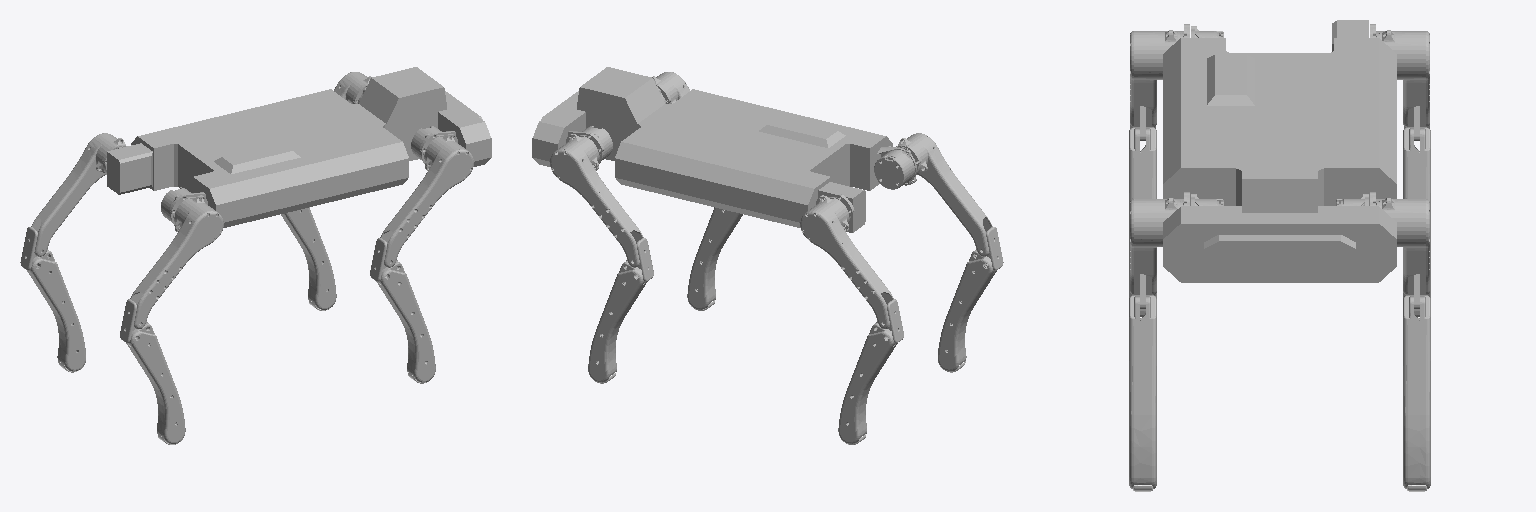
URDF robot description (FullAssemblyPyBullet):
<?xml version="1.0" encoding="utf-8"?>
<!-- This URDF was automatically created by SolidWorks to URDF Exporter! Originally created by [author] ([email redacted]) 
     Commit Version: 1.6.0-4-g7f85cfe  Build Version: 1.6.7995.38578
     For more information, please see http://wiki.ros.org/sw_urdf_exporter -->
<robot
  name="FullAssemblyPyBullet">
  <link
    name="MainBody">
    <inertial>
      <origin
        xyz="0.0715878232956685 -0.000237379436129198 0.0384948762748406"
        rpy="0 0 0" />
      <mass
        value="1.84238098815425" />
      <inertia
        ixx="0.00433419520410736"
        ixy="-3.43872307352775E-07"
        ixz="2.81226041199482E-06"
        iyy="0.00397090376565795"
        iyz="1.19851821233543E-08"
        izz="0.00734145267452479" />
    </inertial>
    <visual>
      <origin
        xyz="0 0 0"
        rpy="0 0 0" />
      <geometry>
        <mesh
          filename="package://FullAssemblyPyBullet/meshes/MainBody.STL" />
      </geometry>
      <material
        name="">
        <color
          rgba="0.752941176470588 0.752941176470588 0.752941176470588 1" />
      </material>
    </visual>
    <collision>
      <origin
        xyz="0 0 0"
        rpy="0 0 0" />
      <geometry>
        <mesh
          filename="package://FullAssemblyPyBullet/meshes/MainBody.STL" />
      </geometry>
    </collision>
  </link>
  <link
    name="FL_HipLink">
    <inertial>
      <origin
        xyz="-0.046482 -0.013937 -0.00013148"
        rpy="0 0 0" />
      <mass
        value="0.092628" />
      <inertia
        ixx="2.6348E-05"
        ixy="1.0623E-06"
        ixz="2.1924E-09"
        iyy="4.2592E-05"
        iyz="-1.0475E-07"
        izz="2.9112E-05" />
    </inertial>
    <visual>
      <origin
        xyz="0 0 0"
        rpy="0 0 0" />
      <geometry>
        <mesh
          filename="package://FullAssemblyPyBullet/meshes/FL_HipLink.STL" />
      </geometry>
      <material
        name="">
        <color
          rgba="0.75294 0.75294 0.75294 1" />
      </material>
    </visual>
    <collision>
      <origin
        xyz="0 0 0"
        rpy="0 0 0" />
      <geometry>
        <mesh
          filename="package://FullAssemblyPyBullet/meshes/FL_HipLink.STL" />
      </geometry>
    </collision>
  </link>
  <joint
    name="FL_HipJoint"
    type="revolute">
    <origin
      xyz="0.2878 0.1 0.037867"
      rpy="0 0 0" />
    <parent
      link="MainBody" />
    <child
      link="FL_HipLink" />
    <axis
      xyz="1 0 0" />
    <limit
      lower="-0.175"
      upper="1.571"
      effort="0"
      velocity="0" />
  </joint>
  <link
    name="FL_FemurLink">
    <inertial>
      <origin
        xyz="-0.0192209156804703 0.0445309182127519 -0.0180483752178875"
        rpy="0 0 0" />
      <mass
        value="0.162698622822929" />
      <inertia
        ixx="0.000127956505961249"
        ixy="-2.78799082360888E-06"
        ixz="-8.05949151113358E-05"
        iyy="0.000233954696541105"
        iyz="-2.77405486023301E-06"
        izz="0.000124359017081187" />
    </inertial>
    <visual>
      <origin
        xyz="0 0 0"
        rpy="0 0 0" />
      <geometry>
        <mesh
          filename="package://FullAssemblyPyBullet/meshes/FL_FemurLink.STL" />
      </geometry>
      <material
        name="">
        <color
          rgba="0.752941176470588 0.752941176470588 0.752941176470588 1" />
      </material>
    </visual>
    <collision>
      <origin
        xyz="0 0 0"
        rpy="0 0 0" />
      <geometry>
        <mesh
          filename="package://FullAssemblyPyBullet/meshes/FL_FemurLink.STL" />
      </geometry>
    </collision>
  </link>
  <joint
    name="FL_FemurJoint"
    type="revolute">
    <origin
      xyz="-0.054 -0.009 0"
      rpy="0 0 0" />
    <parent
      link="FL_HipLink" />
    <child
      link="FL_FemurLink" />
    <axis
      xyz="0 1 0" />
    <limit
      lower="-0.785"
      upper="0.785"
      effort="0"
      velocity="0" />
  </joint>
  <link
    name="FL_TibiaLink">
    <inertial>
      <origin
        xyz="0.0322017175929247 2.39643160091924E-05 -0.0962232443701754"
        rpy="0 0 0" />
      <mass
        value="0.109672208230102" />
      <inertia
        ixx="0.000411262084213936"
        ixy="-9.2367440160798E-07"
        ixz="0.000137528054915283"
        iyy="0.000471917665954904"
        iyz="2.15761541593598E-06"
        izz="6.64698615962587E-05" />
    </inertial>
    <visual>
      <origin
        xyz="0 0 0"
        rpy="0 0 0" />
      <geometry>
        <mesh
          filename="package://FullAssemblyPyBullet/meshes/FL_TibiaLink.STL" />
      </geometry>
      <material
        name="">
        <color
          rgba="0.752941176470588 0.752941176470588 0.752941176470588 1" />
      </material>
    </visual>
    <collision>
      <origin
        xyz="0 0 0"
        rpy="0 0 0" />
      <geometry>
        <mesh
          filename="package://FullAssemblyPyBullet/meshes/FL_TibiaLink.STL" />
      </geometry>
    </collision>
  </link>
  <joint
    name="FL_TibiaJoint"
    type="revolute">
    <origin
      xyz="-0.1283 0.0695 -0.1404"
      rpy="0 0 0" />
    <parent
      link="FL_FemurLink" />
    <child
      link="FL_TibiaLink" />
    <axis
      xyz="0 1 0" />
    <limit
      lower="-1.571"
      upper="0"
      effort="0"
      velocity="0" />
  </joint>
  <link
    name="FL_FootLink">
    <inertial>
      <origin
        xyz="0.000340694607176006 1.29750904465098E-10 0.00531238344111958"
        rpy="0 0 0" />
      <mass
        value="0.00261710083689234" />
      <inertia
        ixx="1.42176481764722E-07"
        ixy="5.41889134310939E-14"
        ixz="2.06504219972565E-08"
        iyy="3.94491238638296E-07"
        iyz="-1.26336438823713E-14"
        izz="4.62835009996335E-07" />
    </inertial>
    <visual>
      <origin
        xyz="0 0 0"
        rpy="0 0 0" />
      <geometry>
        <mesh
          filename="package://FullAssemblyPyBullet/meshes/FL_FootLink.STL" />
      </geometry>
      <material
        name="">
        <color
          rgba="1 1 1 1" />
      </material>
    </visual>
    <collision>
      <origin
        xyz="0 0 0"
        rpy="0 0 0" />
      <geometry>
        <mesh
          filename="package://FullAssemblyPyBullet/meshes/FL_FootLink.STL" />
      </geometry>
    </collision>
  </link>
  <joint
    name="FL_FootJoint"
    type="fixed">
    <origin
      xyz="0.063753 0 -0.2336"
      rpy="0 0 0" />
    <parent
      link="FL_TibiaLink" />
    <child
      link="FL_FootLink" />
    <axis
      xyz="0 0 0" />
  </joint>
  <link
    name="FR_HipLink">
    <inertial>
      <origin
        xyz="-0.046481 0.013937 -0.0001314"
        rpy="0 0 0" />
      <mass
        value="0.092628" />
      <inertia
        ixx="2.6348E-05"
        ixy="-1.0624E-06"
        ixz="2.0949E-09"
        iyy="4.2592E-05"
        iyz="1.0467E-07"
        izz="2.9112E-05" />
    </inertial>
    <visual>
      <origin
        xyz="0 0 0"
        rpy="0 0 0" />
      <geometry>
        <mesh
          filename="package://FullAssemblyPyBullet/meshes/FR_HipLink.STL" />
      </geometry>
      <material
        name="">
        <color
          rgba="0.75294 0.75294 0.75294 1" />
      </material>
    </visual>
    <collision>
      <origin
        xyz="0 0 0"
        rpy="0 0 0" />
      <geometry>
        <mesh
          filename="package://FullAssemblyPyBullet/meshes/FR_HipLink.STL" />
      </geometry>
    </collision>
  </link>
  <joint
    name="FR_HipJoint"
    type="revolute">
    <origin
      xyz="0.2878 -0.1 0.037867"
      rpy="0 0 0" />
    <parent
      link="MainBody" />
    <child
      link="FR_HipLink" />
    <axis
      xyz="1 0 0" />
    <limit
      lower="-1.571"
      upper="0.175"
      effort="0"
      velocity="0" />
  </joint>
  <link
    name="FR_FemurLink">
    <inertial>
      <origin
        xyz="-0.019221 -0.044531 -0.018048"
        rpy="0 0 0" />
      <mass
        value="0.1627" />
      <inertia
        ixx="0.00012796"
        ixy="2.788E-06"
        ixz="-8.0595E-05"
        iyy="0.00023396"
        iyz="2.774E-06"
        izz="0.00012436" />
    </inertial>
    <visual>
      <origin
        xyz="0 0 0"
        rpy="0 0 0" />
      <geometry>
        <mesh
          filename="package://FullAssemblyPyBullet/meshes/FR_FemurLink.STL" />
      </geometry>
      <material
        name="">
        <color
          rgba="0.75294 0.75294 0.75294 1" />
      </material>
    </visual>
    <collision>
      <origin
        xyz="0 0 0"
        rpy="0 0 0" />
      <geometry>
        <mesh
          filename="package://FullAssemblyPyBullet/meshes/FR_FemurLink.STL" />
      </geometry>
    </collision>
  </link>
  <joint
    name="FR_FemurJoint"
    type="revolute">
    <origin
      xyz="-0.054 0.009 0"
      rpy="0 0 0" />
    <parent
      link="FR_HipLink" />
    <child
      link="FR_FemurLink" />
    <axis
      xyz="0 1 0" />
    <limit
      lower="-0.785"
      upper="0.785"
      effort="0"
      velocity="0" />
  </joint>
  <link
    name="FR_TibiaLink">
    <inertial>
      <origin
        xyz="0.032202 -2.3915E-05 -0.096223"
        rpy="0 0 0" />
      <mass
        value="0.10967" />
      <inertia
        ixx="0.00041126"
        ixy="9.237E-07"
        ixz="0.00013753"
        iyy="0.00047192"
        iyz="-2.1577E-06"
        izz="6.647E-05" />
    </inertial>
    <visual>
      <origin
        xyz="0 0 0"
        rpy="0 0 0" />
      <geometry>
        <mesh
          filename="package://FullAssemblyPyBullet/meshes/FR_TibiaLink.STL" />
      </geometry>
      <material
        name="">
        <color
          rgba="0.75294 0.75294 0.75294 1" />
      </material>
    </visual>
    <collision>
      <origin
        xyz="0 0 0"
        rpy="0 0 0" />
      <geometry>
        <mesh
          filename="package://FullAssemblyPyBullet/meshes/FR_TibiaLink.STL" />
      </geometry>
    </collision>
  </link>
  <joint
    name="FR_TibiaJoint"
    type="revolute">
    <origin
      xyz="-0.1283 -0.0695 -0.1404"
      rpy="0 0 0" />
    <parent
      link="FR_FemurLink" />
    <child
      link="FR_TibiaLink" />
    <axis
      xyz="0 1 0" />
    <limit
      lower="-1.571"
      upper="0"
      effort="0"
      velocity="0" />
  </joint>
  <link
    name="FR_FootLink">
    <inertial>
      <origin
        xyz="0.00034072 -7.9292E-11 0.0053124"
        rpy="0 0 0" />
      <mass
        value="0.0026171" />
      <inertia
        ixx="1.4218E-07"
        ixy="5.5508E-14"
        ixz="2.065E-08"
        iyy="3.9449E-07"
        iyz="4.5519E-15"
        izz="4.6284E-07" />
    </inertial>
    <visual>
      <origin
        xyz="0 0 0"
        rpy="0 0 0" />
      <geometry>
        <mesh
          filename="package://FullAssemblyPyBullet/meshes/FR_FootLink.STL" />
      </geometry>
      <material
        name="">
        <color
          rgba="1 1 1 1" />
      </material>
    </visual>
    <collision>
      <origin
        xyz="0 0 0"
        rpy="0 0 0" />
      <geometry>
        <mesh
          filename="package://FullAssemblyPyBullet/meshes/FR_FootLink.STL" />
      </geometry>
    </collision>
  </link>
  <joint
    name="FR_FootJoint"
    type="fixed">
    <origin
      xyz="0.0637534602692 0 -0.233603271727562"
      rpy="0 0 0" />
    <parent
      link="FR_TibiaLink" />
    <child
      link="FR_FootLink" />
    <axis
      xyz="0 0 0" />
  </joint>
  <link
    name="RL_HipLink">
    <inertial>
      <origin
        xyz="-0.0464816397695236 -0.0139368080927127 -0.000131481968210667"
        rpy="0 0 0" />
      <mass
        value="0.0926275808970222" />
      <inertia
        ixx="2.63476335895186E-05"
        ixy="1.06227394054547E-06"
        ixz="2.19244911810716E-09"
        iyy="4.25915461101412E-05"
        iyz="-1.04752135142927E-07"
        izz="2.91123101637658E-05" />
    </inertial>
    <visual>
      <origin
        xyz="0 0 0"
        rpy="0 0 0" />
      <geometry>
        <mesh
          filename="package://FullAssemblyPyBullet/meshes/RL_HipLink.STL" />
      </geometry>
      <material
        name="">
        <color
          rgba="0.752941176470588 0.752941176470588 0.752941176470588 1" />
      </material>
    </visual>
    <collision>
      <origin
        xyz="0 0 0"
        rpy="0 0 0" />
      <geometry>
        <mesh
          filename="package://FullAssemblyPyBullet/meshes/RL_HipLink.STL" />
      </geometry>
    </collision>
  </link>
  <joint
    name="RL_HipJoint"
    type="revolute">
    <origin
      xyz="-0.1794 0.1 0.037"
      rpy="0 0 0" />
    <parent
      link="MainBody" />
    <child
      link="RL_HipLink" />
    <axis
      xyz="1 0 0" />
    <limit
      lower="-0.175"
      upper="1.571"
      effort="0"
      velocity="0" />
  </joint>
  <link
    name="RL_FemurLink">
    <inertial>
      <origin
        xyz="-0.0192209157084936 0.0445309180696282 -0.0180483751384094"
        rpy="0 0 0" />
      <mass
        value="0.162698622211317" />
      <inertia
        ixx="0.000127956505837031"
        ixy="-2.78799083584666E-06"
        ixz="-8.05949147183128E-05"
        iyy="0.000233954695159349"
        iyz="-2.77405486253497E-06"
        izz="0.000124359015823803" />
    </inertial>
    <visual>
      <origin
        xyz="0 0 0"
        rpy="0 0 0" />
      <geometry>
        <mesh
          filename="package://FullAssemblyPyBullet/meshes/RL_FemurLink.STL" />
      </geometry>
      <material
        name="">
        <color
          rgba="0.752941176470588 0.752941176470588 0.752941176470588 1" />
      </material>
    </visual>
    <collision>
      <origin
        xyz="0 0 0"
        rpy="0 0 0" />
      <geometry>
        <mesh
          filename="package://FullAssemblyPyBullet/meshes/RL_FemurLink.STL" />
      </geometry>
    </collision>
  </link>
  <joint
    name="RL_FemurJoint"
    type="revolute">
    <origin
      xyz="-0.054 -0.009 0"
      rpy="0 0 0" />
    <parent
      link="RL_HipLink" />
    <child
      link="RL_FemurLink" />
    <axis
      xyz="0 1 0" />
    <limit
      lower="-0.785"
      upper="0.785"
      effort="0"
      velocity="0" />
  </joint>
  <link
    name="RL_TibiaLink">
    <inertial>
      <origin
        xyz="0.032201717592925 2.39643160091438E-05 -0.0962232443701748"
        rpy="0 0 0" />
      <mass
        value="0.109672208230101" />
      <inertia
        ixx="0.000411262084213933"
        ixy="-9.23674401607972E-07"
        ixz="0.000137528054915283"
        iyy="0.000471917665954898"
        iyz="2.15761541593597E-06"
        izz="6.64698615962559E-05" />
    </inertial>
    <visual>
      <origin
        xyz="0 0 0"
        rpy="0 0 0" />
      <geometry>
        <mesh
          filename="package://FullAssemblyPyBullet/meshes/RL_TibiaLink.STL" />
      </geometry>
      <material
        name="">
        <color
          rgba="0.752941176470588 0.752941176470588 0.752941176470588 1" />
      </material>
    </visual>
    <collision>
      <origin
        xyz="0 0 0"
        rpy="0 0 0" />
      <geometry>
        <mesh
          filename="package://FullAssemblyPyBullet/meshes/RL_TibiaLink.STL" />
      </geometry>
    </collision>
  </link>
  <joint
    name="RL_TibiaJoint"
    type="revolute">
    <origin
      xyz="-0.1283 0.0695 -0.1404"
      rpy="0 0 0" />
    <parent
      link="RL_FemurLink" />
    <child
      link="RL_TibiaLink" />
    <axis
      xyz="0 1 0" />
    <limit
      lower="-1.571"
      upper="0"
      effort="0"
      velocity="0" />
  </joint>
  <link
    name="RL_FootLink">
    <inertial>
      <origin
        xyz="0.000340694607175784 1.29750980792931E-10 0.00531238344111906"
        rpy="0 0 0" />
      <mass
        value="0.00261710083689218" />
      <inertia
        ixx="1.42176481764706E-07"
        ixy="5.4188914000448E-14"
        ixz="2.06504219972602E-08"
        iyy="3.94491238638248E-07"
        iyz="-1.26336445406927E-14"
        izz="4.62835009996293E-07" />
    </inertial>
    <visual>
      <origin
        xyz="0 0 0"
        rpy="0 0 0" />
      <geometry>
        <mesh
          filename="package://FullAssemblyPyBullet/meshes/RL_FootLink.STL" />
      </geometry>
      <material
        name="">
        <color
          rgba="1 1 1 1" />
      </material>
    </visual>
    <collision>
      <origin
        xyz="0 0 0"
        rpy="0 0 0" />
      <geometry>
        <mesh
          filename="package://FullAssemblyPyBullet/meshes/RL_FootLink.STL" />
      </geometry>
    </collision>
  </link>
  <joint
    name="RL_FootJoint"
    type="fixed">
    <origin
      xyz="0.0637534602692006 0 -0.233603271727562"
      rpy="0 0 0" />
    <parent
      link="RL_TibiaLink" />
    <child
      link="RL_FootLink" />
    <axis
      xyz="0 0 0" />
  </joint>
  <link
    name="RR_HipLink">
    <inertial>
      <origin
        xyz="-0.0464814378828992 0.0139367872200231 -0.000131456647172234"
        rpy="0 0 0" />
      <mass
        value="0.0926285030937892" />
      <inertia
        ixx="2.63479448635204E-05"
        ixy="-1.06236260344068E-06"
        ixz="2.09302194470485E-09"
        iyy="4.25918877263146E-05"
        iyz="1.0470630347238E-07"
        izz="2.91125133706959E-05" />
    </inertial>
    <visual>
      <origin
        xyz="0 0 0"
        rpy="0 0 0" />
      <geometry>
        <mesh
          filename="package://FullAssemblyPyBullet/meshes/RR_HipLink.STL" />
      </geometry>
      <material
        name="">
        <color
          rgba="0.752941176470588 0.752941176470588 0.752941176470588 1" />
      </material>
    </visual>
    <collision>
      <origin
        xyz="0 0 0"
        rpy="0 0 0" />
      <geometry>
        <mesh
          filename="package://FullAssemblyPyBullet/meshes/RR_HipLink.STL" />
      </geometry>
    </collision>
  </link>
  <joint
    name="RR_HipJoint"
    type="revolute">
    <origin
      xyz="-0.1794 -0.1 0.037"
      rpy="0 0 0" />
    <parent
      link="MainBody" />
    <child
      link="RR_HipLink" />
    <axis
      xyz="1 0 0" />
    <limit
      lower="-1.571"
      upper="0.175"
      effort="0"
      velocity="0" />
  </joint>
  <link
    name="RR_FemurLink">
    <inertial>
      <origin
        xyz="-0.0192209202181282 -0.0445309198933593 -0.0180483792970792"
        rpy="0 0 0" />
      <mass
        value="0.16269859820821" />
      <inertia
        ixx="0.000127956696378493"
        ixy="2.78797474241714E-06"
        ixz="-8.0595104072781E-05"
        iyy="0.000233955011789736"
        iyz="2.77402832806753E-06"
        izz="0.000124359142518746" />
    </inertial>
    <visual>
      <origin
        xyz="0 0 0"
        rpy="0 0 0" />
      <geometry>
        <mesh
          filename="package://FullAssemblyPyBullet/meshes/RR_FemurLink.STL" />
      </geometry>
      <material
        name="">
        <color
          rgba="0.752941176470588 0.752941176470588 0.752941176470588 1" />
      </material>
    </visual>
    <collision>
      <origin
        xyz="0 0 0"
        rpy="0 0 0" />
      <geometry>
        <mesh
          filename="package://FullAssemblyPyBullet/meshes/RR_FemurLink.STL" />
      </geometry>
    </collision>
  </link>
  <joint
    name="RR_FemurJoint"
    type="revolute">
    <origin
      xyz="-0.054 0.009 0"
      rpy="0 0 0" />
    <parent
      link="RR_HipLink" />
    <child
      link="RR_FemurLink" />
    <axis
      xyz="0 1 0" />
    <limit
      lower="-0.785"
      upper="0.785"
      effort="0"
      velocity="0" />
  </joint>
  <link
    name="RR_TibiaLink">
    <inertial>
      <origin
        xyz="0.0322016962666146 -2.39145069413915E-05 -0.0962231575946958"
        rpy="0 0 0" />
      <mass
        value="0.109672400053178" />
      <inertia
        ixx="0.000411263099234666"
        ixy="9.23702371695806E-07"
        ixz="0.000137528330485258"
        iyy="0.000471918768709001"
        iyz="-2.15772655059984E-06"
        izz="6.64699651574824E-05" />
    </inertial>
    <visual>
      <origin
        xyz="0 0 0"
        rpy="0 0 0" />
      <geometry>
        <mesh
          filename="package://FullAssemblyPyBullet/meshes/RR_TibiaLink.STL" />
      </geometry>
      <material
        name="">
        <color
          rgba="0.752941176470588 0.752941176470588 0.752941176470588 1" />
      </material>
    </visual>
    <collision>
      <origin
        xyz="0 0 0"
        rpy="0 0 0" />
      <geometry>
        <mesh
          filename="package://FullAssemblyPyBullet/meshes/RR_TibiaLink.STL" />
      </geometry>
    </collision>
  </link>
  <joint
    name="RR_TibiaJoint"
    type="revolute">
    <origin
      xyz="-0.1283 -0.0695 -0.1404"
      rpy="0 0 0" />
    <parent
      link="RR_FemurLink" />
    <child
      link="RR_TibiaLink" />
    <axis
      xyz="0 1 0" />
    <limit
      lower="-1.571"
      upper="0"
      effort="0"
      velocity="0" />
  </joint>
  <link
    name="RR_FootLink">
    <inertial>
      <origin
        xyz="0.000340717980085947 -7.92921839298799E-11 0.00531238163968045"
        rpy="0 0 0" />
      <mass
        value="0.00261710077329806" />
      <inertia
        ixx="1.42176397424821E-07"
        ixy="5.5507760827789E-14"
        ixz="2.0649850204884E-08"
        iyy="3.94491214620179E-07"
        iyz="4.55187258855279E-15"
        izz="4.62835064651932E-07" />
    </inertial>
    <visual>
      <origin
        xyz="0 0 0"
        rpy="0 0 0" />
      <geometry>
        <mesh
          filename="package://FullAssemblyPyBullet/meshes/RR_FootLink.STL" />
      </geometry>
      <material
        name="">
        <color
          rgba="1 1 1 1" />
      </material>
    </visual>
    <collision>
      <origin
        xyz="0 0 0"
        rpy="0 0 0" />
      <geometry>
        <mesh
          filename="package://FullAssemblyPyBullet/meshes/RR_FootLink.STL" />
      </geometry>
    </collision>
  </link>
  <joint
    name="RR_FootJoint"
    type="fixed">
    <origin
      xyz="0.0637534602692006 0 -0.233603271727562"
      rpy="0 0 0" />
    <parent
      link="RR_TibiaLink" />
    <child
      link="RR_FootLink" />
    <axis
      xyz="0 0 0" />
  </joint>
</robot>

--- Render facts (derived) ---
Views: 3 orthographic renders of the robot side by side, from view 1: azimuth 30°, elevation 25°; view 2: azimuth 150°, elevation 25°; view 3: azimuth 270°, elevation 25°.
Robot: FullAssemblyPyBullet — 17 links, 16 joints (12 revolute, 4 fixed); root link MainBody; default pose: every joint at zero.
Links seen in each view (by area): view 1: MainBody, FR_FemurLink, RR_FemurLink, FR_TibiaLink, RR_TibiaLink, RL_TibiaLink, RL_FemurLink, FL_TibiaLink, RL_HipLink, FL_FemurLink; view 2: MainBody, FL_FemurLink, RL_FemurLink, FL_TibiaLink, RL_TibiaLink, RR_TibiaLink, RR_FemurLink, FR_TibiaLink, RR_HipLink, RL_HipLink, FR_FemurLink; view 3: MainBody, FL_TibiaLink, FR_TibiaLink, FL_FemurLink, FR_FemurLink, RL_FemurLink, RR_FemurLink, RL_TibiaLink, RR_TibiaLink, RL_HipLink.
Boxes of the visible links, x1,y1,x2,y2 form: MainBody: [131, 67, 491, 227]; FR_FemurLink: [380, 133, 473, 267]; RR_FemurLink: [130, 194, 223, 328]; FR_TibiaLink: [370, 238, 435, 382]; RR_TibiaLink: [120, 299, 185, 443]; RL_TibiaLink: [20, 227, 85, 371]; RL_FemurLink: [31, 133, 126, 256]; FL_TibiaLink: [281, 207, 336, 309]; RL_HipLink: [107, 143, 152, 194]; FL_FemurLink: [334, 72, 371, 103]; MainBody: [532, 67, 892, 227]; FL_FemurLink: [550, 133, 643, 267]; RL_FemurLink: [800, 194, 893, 328]; FL_TibiaLink: [588, 238, 653, 382]; RL_TibiaLink: [838, 299, 903, 443]; RR_TibiaLink: [938, 227, 1003, 371]; RR_FemurLink: [888, 133, 992, 256]; FR_TibiaLink: [687, 207, 742, 309]; RR_HipLink: [874, 147, 916, 189]; RL_HipLink: [818, 182, 865, 232]; FR_FemurLink: [652, 72, 689, 103]; MainBody: [1163, 38, 1396, 282]; FL_TibiaLink: [1403, 274, 1430, 488]; FR_TibiaLink: [1129, 274, 1156, 488]; FL_FemurLink: [1370, 192, 1429, 294]; FR_FemurLink: [1130, 192, 1189, 294]; RL_FemurLink: [1370, 24, 1429, 126]; RR_FemurLink: [1130, 24, 1189, 126]; RL_TibiaLink: [1403, 106, 1430, 316]; RR_TibiaLink: [1129, 106, 1156, 316]; RL_HipLink: [1332, 20, 1368, 51].
Bounding box of the posed robot: 0.72 × 0.353 × 0.4533 m (x, y, z).
17 mesh visuals loaded from 17 distinct referenced files (17 binary STL).